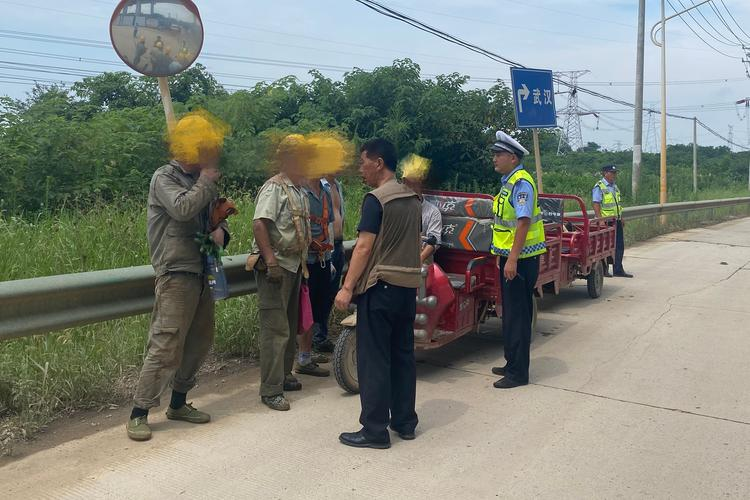driver: (401, 137, 456, 320)
overloading: (136, 103, 491, 441)
passenger: (155, 117, 239, 443), (345, 135, 420, 450), (256, 115, 300, 418), (305, 124, 337, 366)
